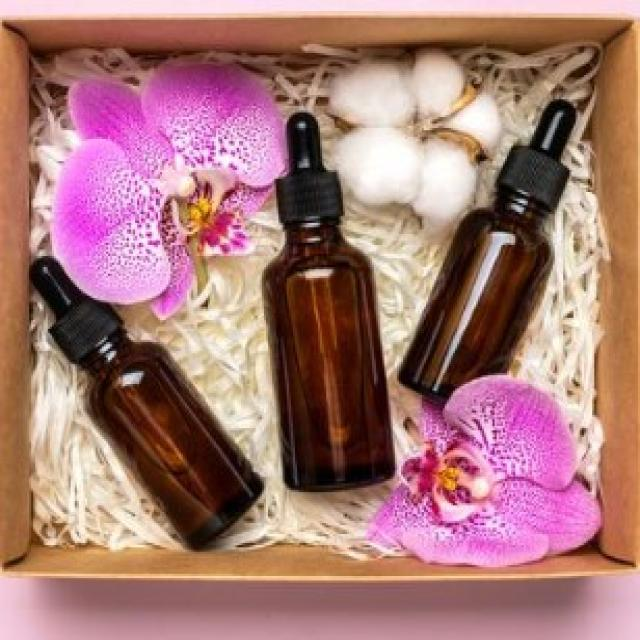electronic: (24, 98, 574, 546)
